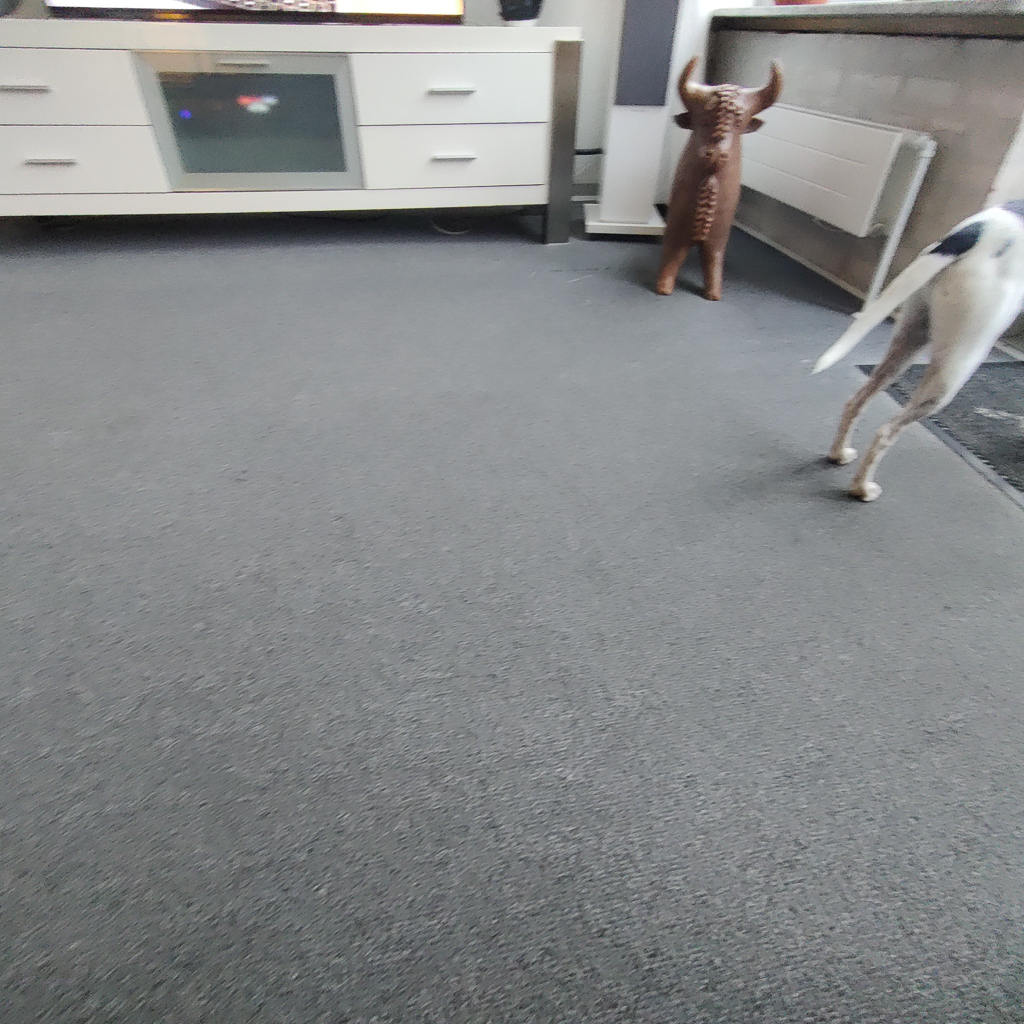Cattle: (635, 48, 798, 318)
Dog: (796, 169, 1024, 514)
